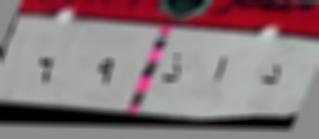6: (32, 51, 58, 87)
9: (95, 53, 118, 92)
alif: (205, 55, 231, 89)
daal: (251, 58, 285, 93)
zaal: (160, 51, 185, 89)
